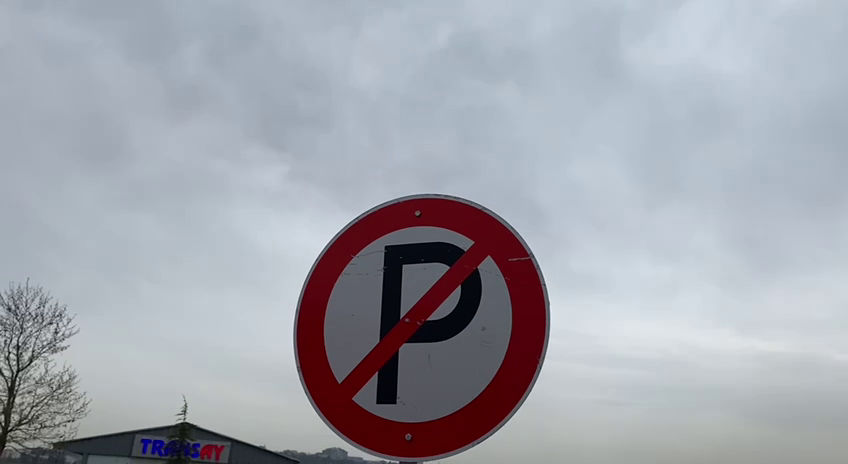noparking: (286, 191, 556, 460)
